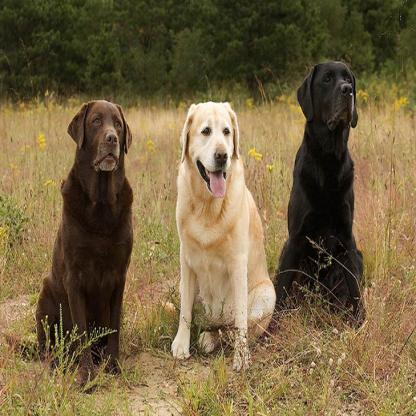Labarador Retriever: (34, 101, 136, 371), (175, 100, 275, 369), (277, 58, 363, 321)
